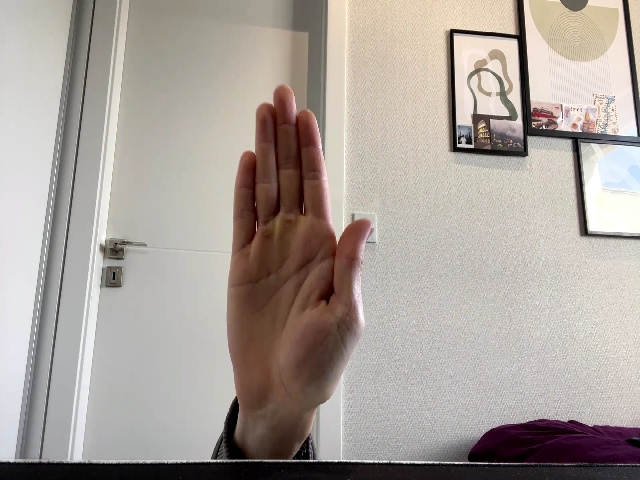B: (227, 85, 374, 413)
